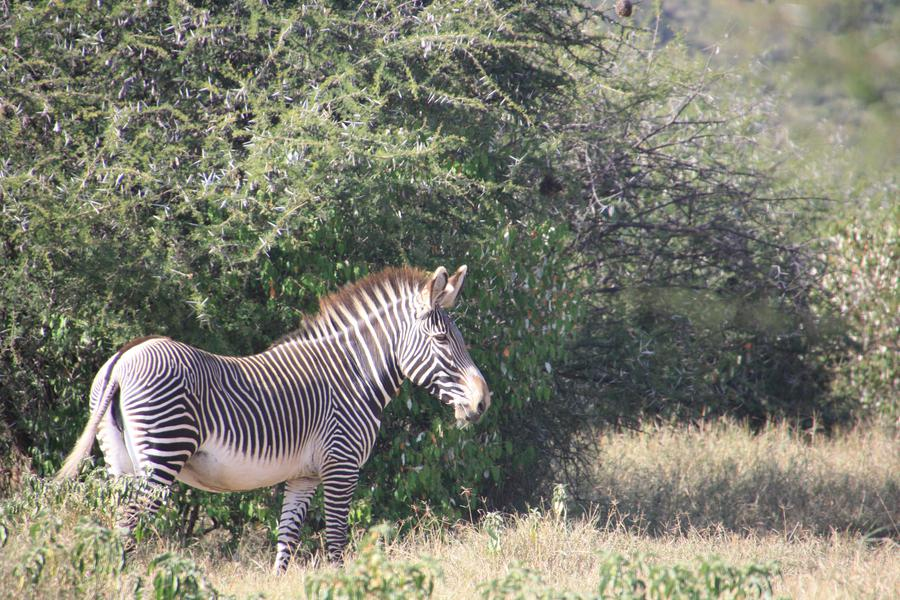zebra_grevys: (97, 338, 369, 462)
